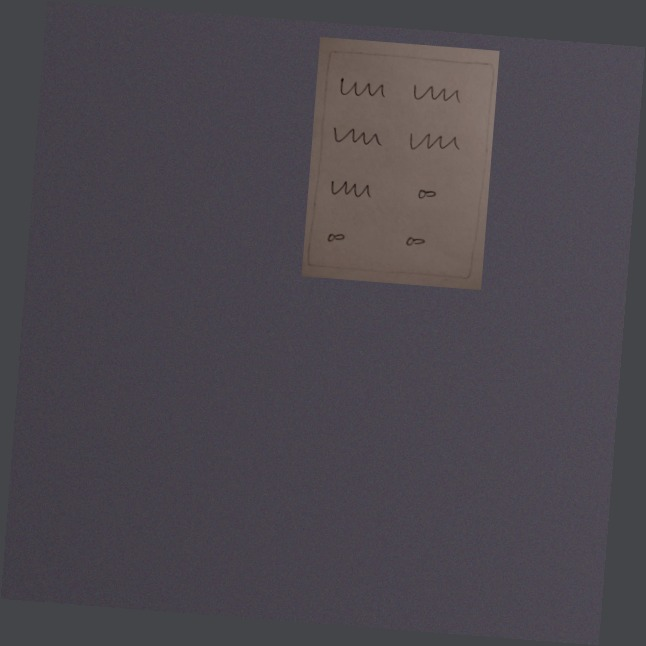switch: (412, 183, 442, 206), (403, 231, 429, 251), (323, 229, 349, 247)
text: (406, 127, 465, 159), (335, 73, 393, 105), (328, 120, 383, 152), (409, 80, 466, 108), (327, 176, 376, 204)
